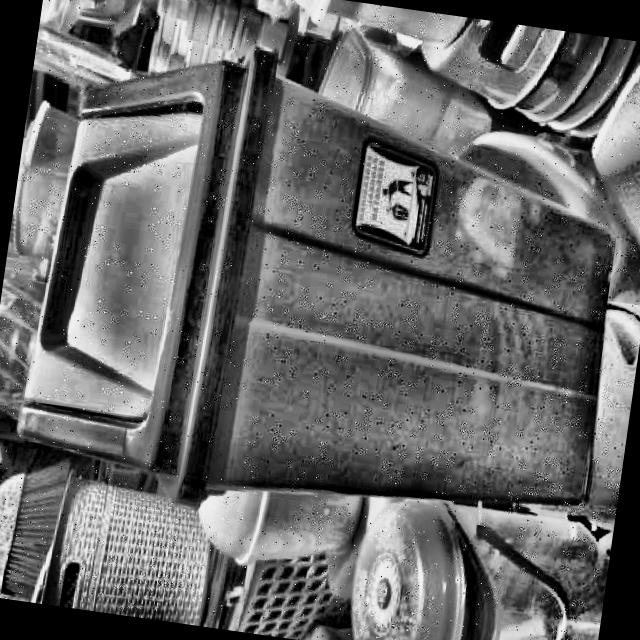Dustbin: (2, 11, 640, 567)
